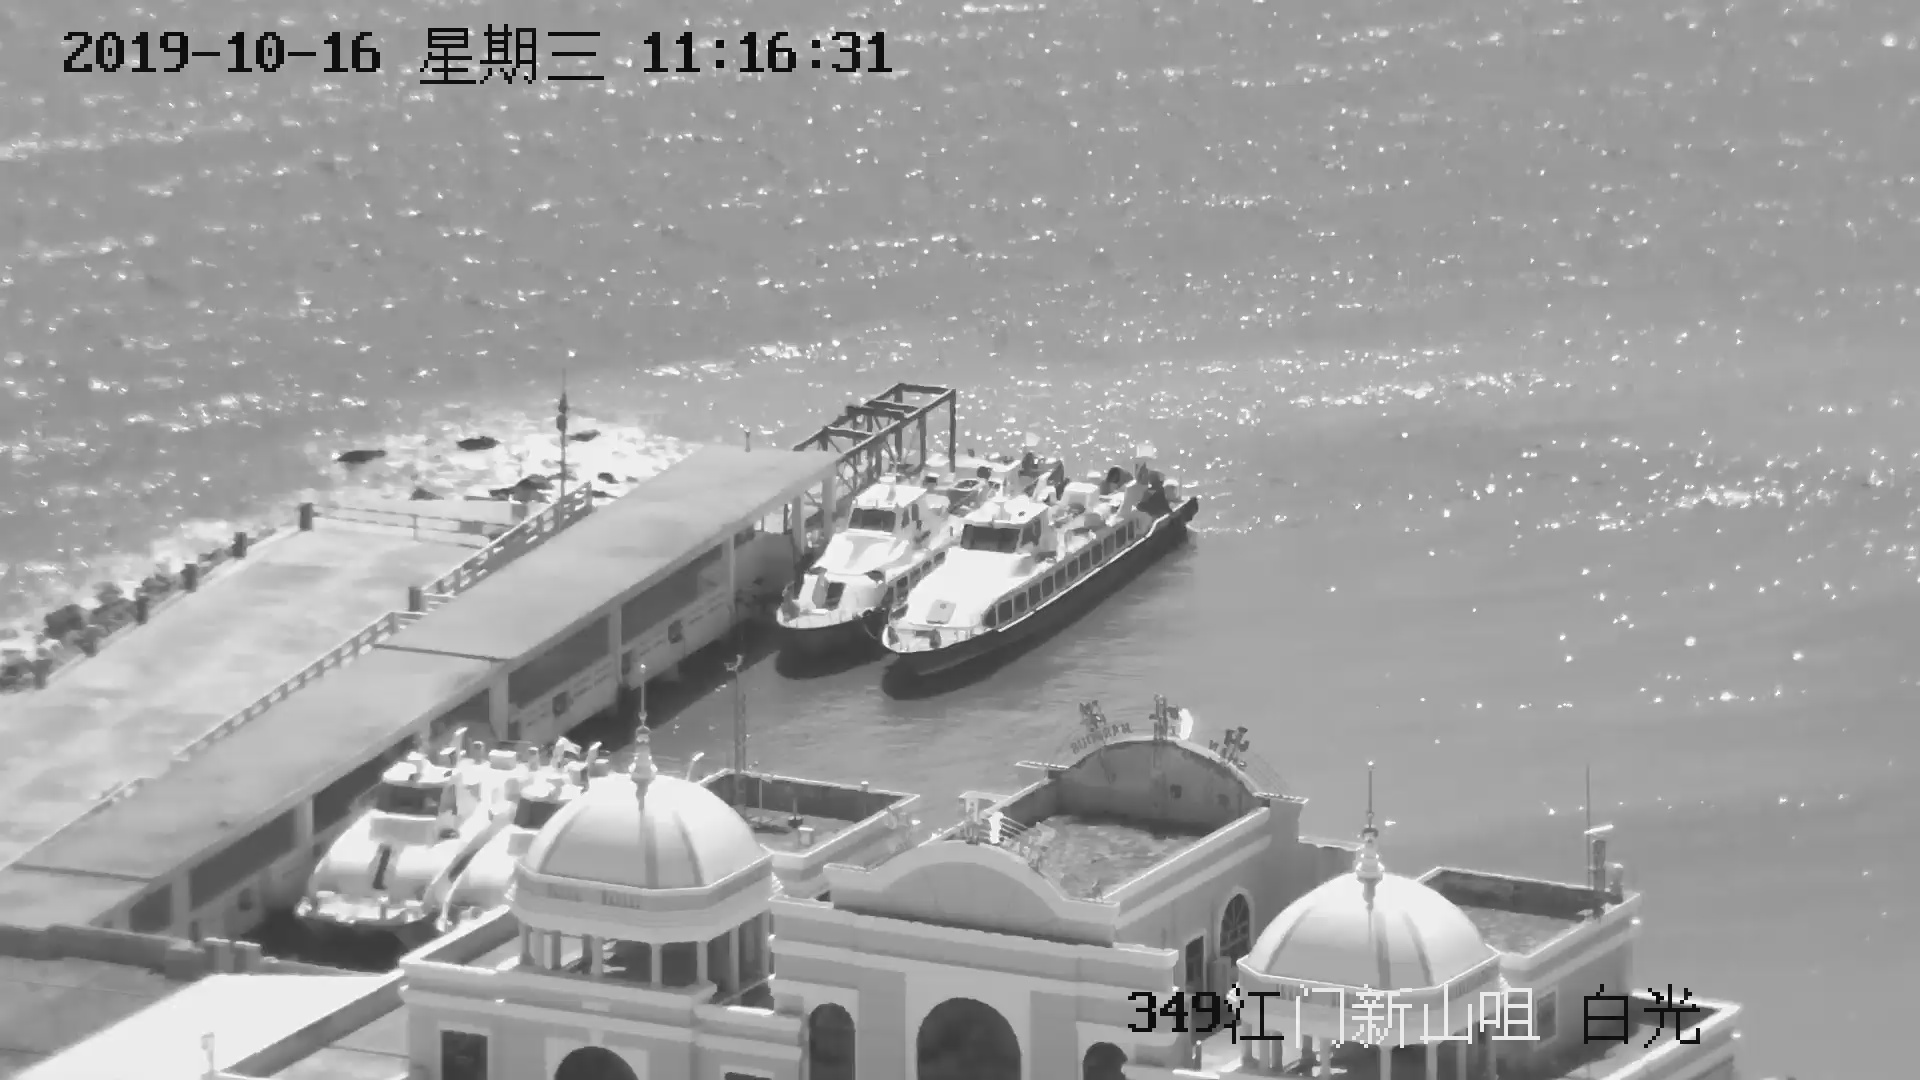ship: (882, 481, 1203, 688), (782, 430, 1056, 653), (301, 735, 601, 926)
